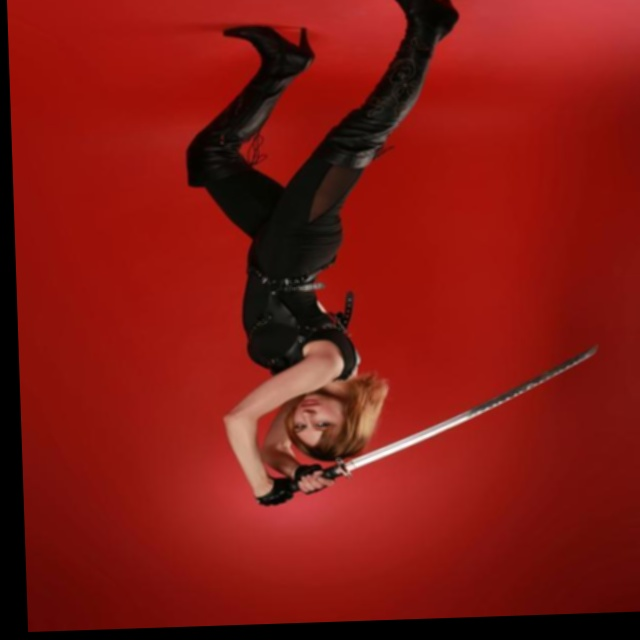Sharp-Object: (253, 340, 616, 517)
